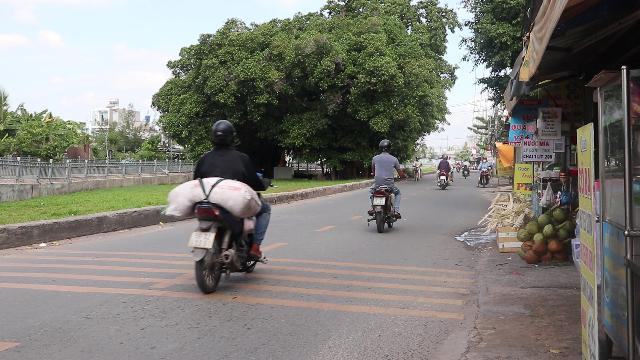helmet: (209, 118, 237, 148), (377, 139, 391, 153)
licenseplate: (189, 231, 215, 248), (373, 197, 385, 204)
motorcyclist: (164, 117, 272, 292), (364, 139, 404, 231)
